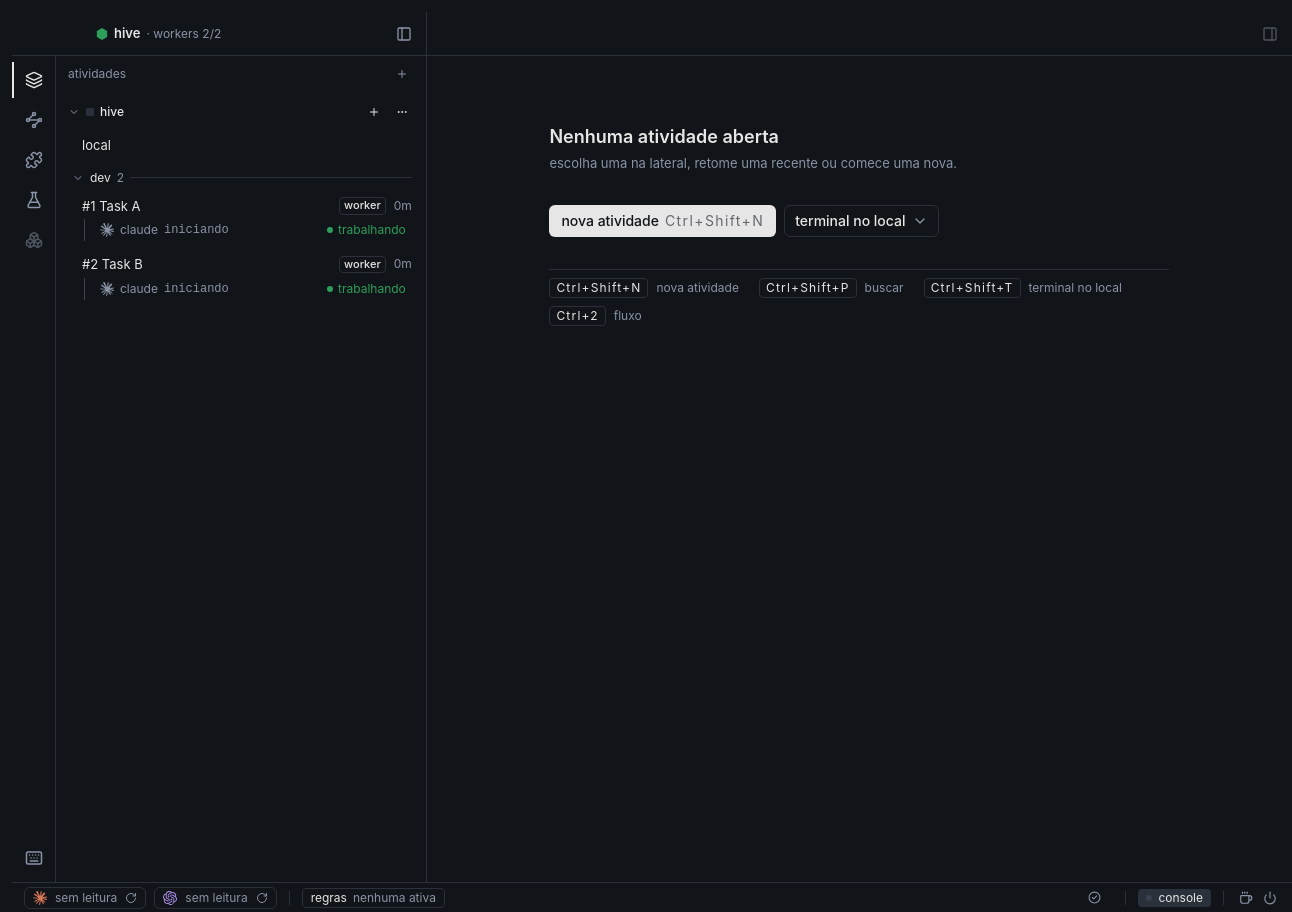
Scenario: with no selection Detalhes is still there, its body the empty state, once its panel opens (#452, #295)
Click the button named "fluxo".
click(34, 120)  # box [12,102,56,138]
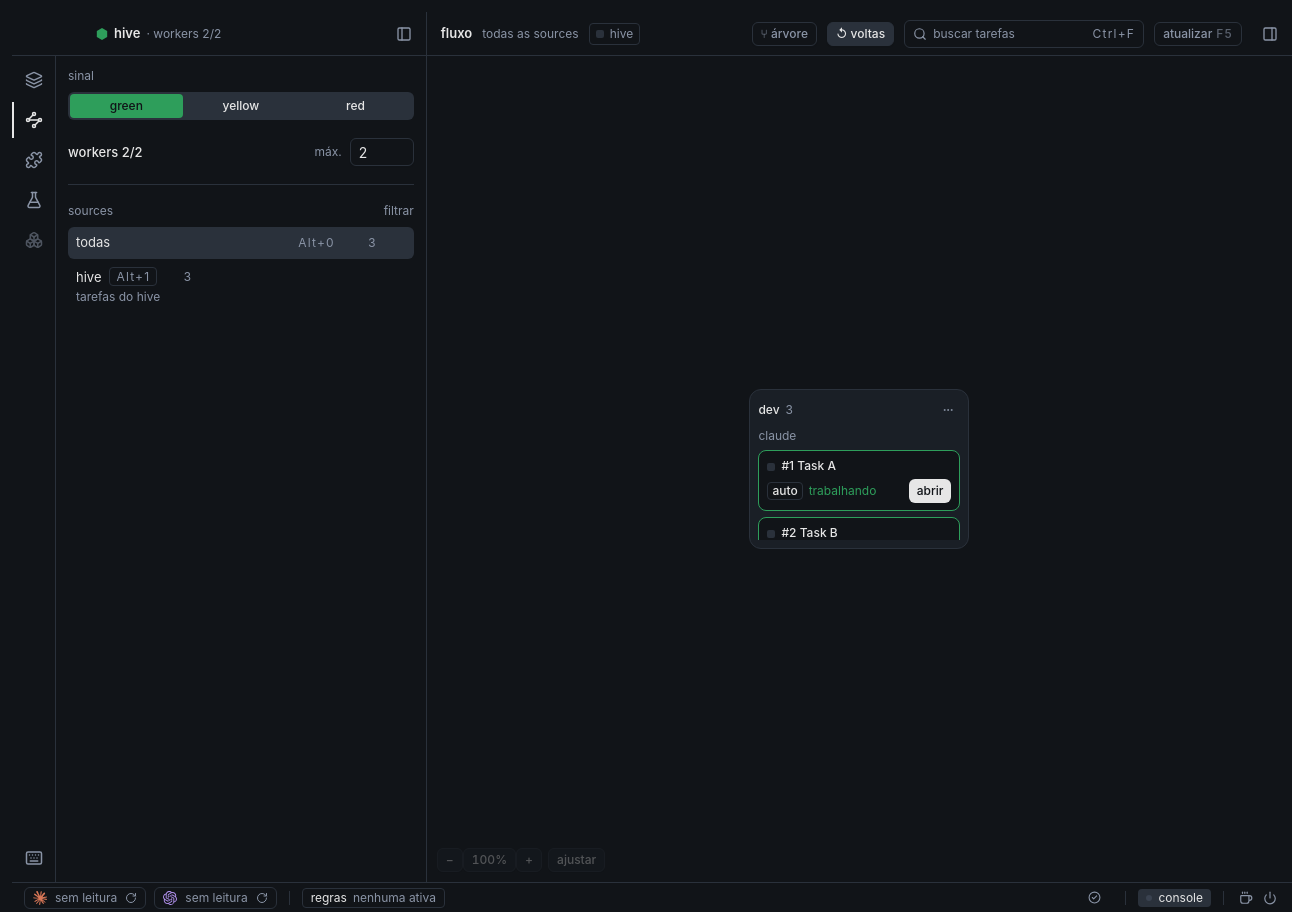
Check: the button "detalhes" is not shown
Press B
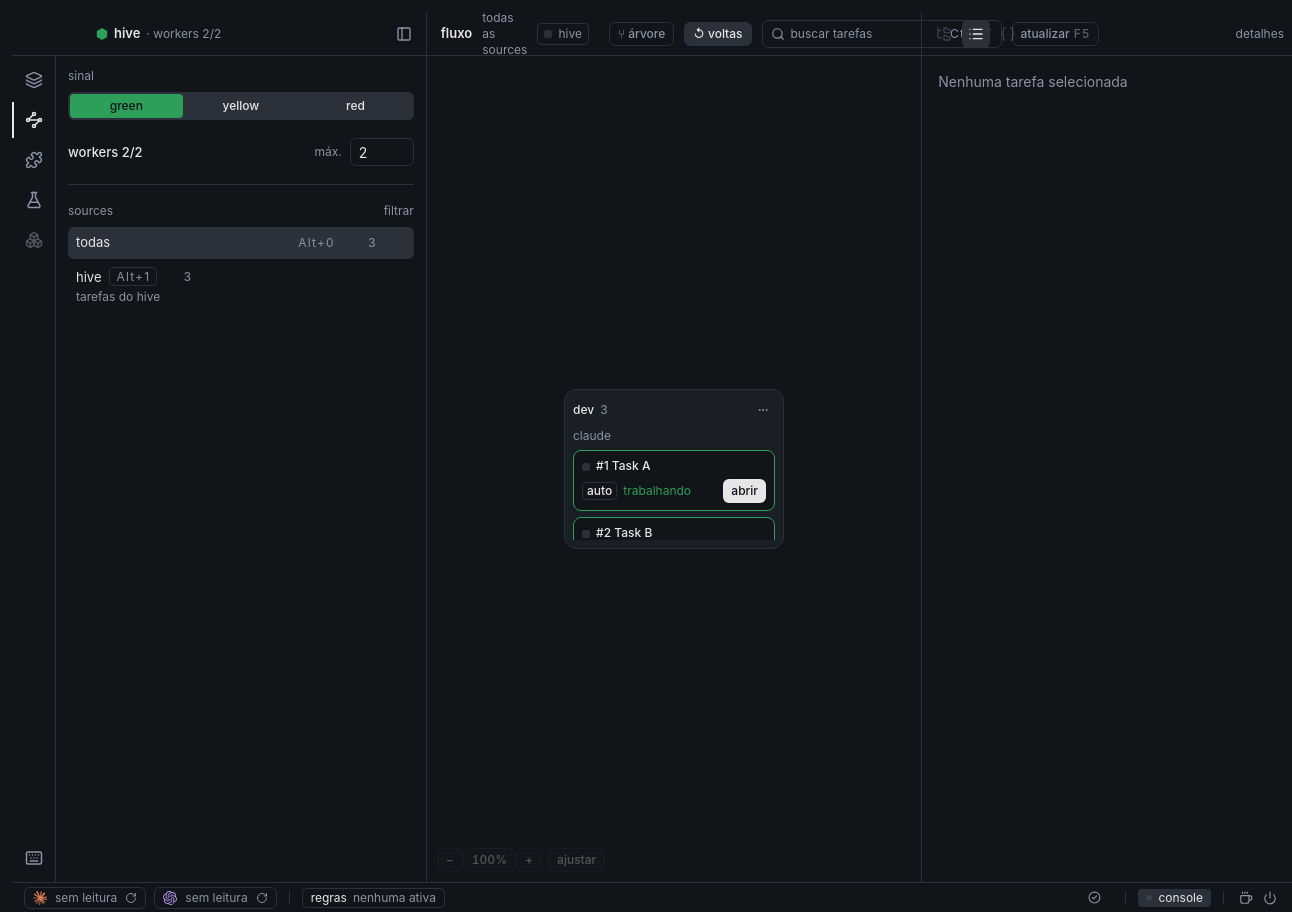
Check: the text "Nenhuma tarefa selecionada" is shown, box [938,73,1128,90]
